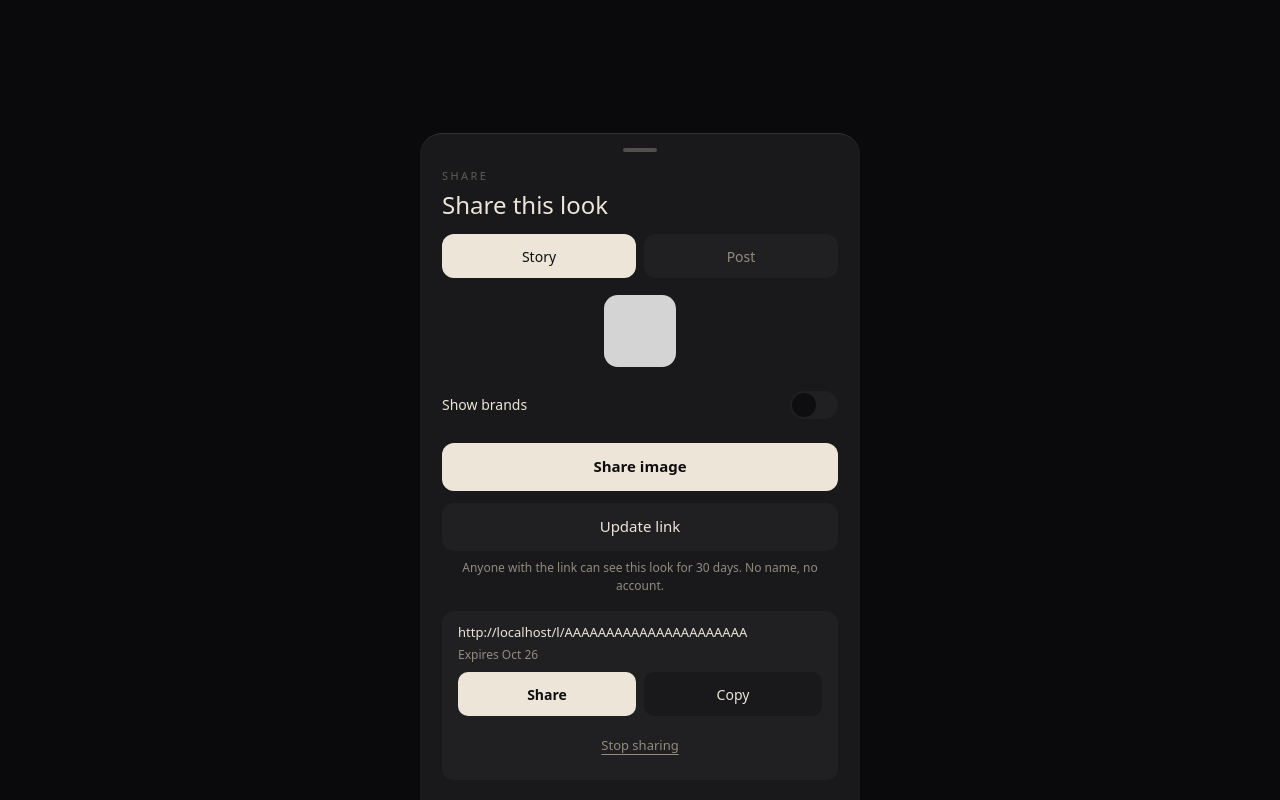
Scenario: an existing live link shows its expiry and can be stopped
The width and height of the screenshot is (1280, 800).
expect the button "Share image" is enabled: met, box [442,442,838,490]
expect the text "Expires Oct 26" is shown: met, box [458,646,538,663]
Click the button "Stop sharing" at coordinates (640, 746), box [458,724,822,768]
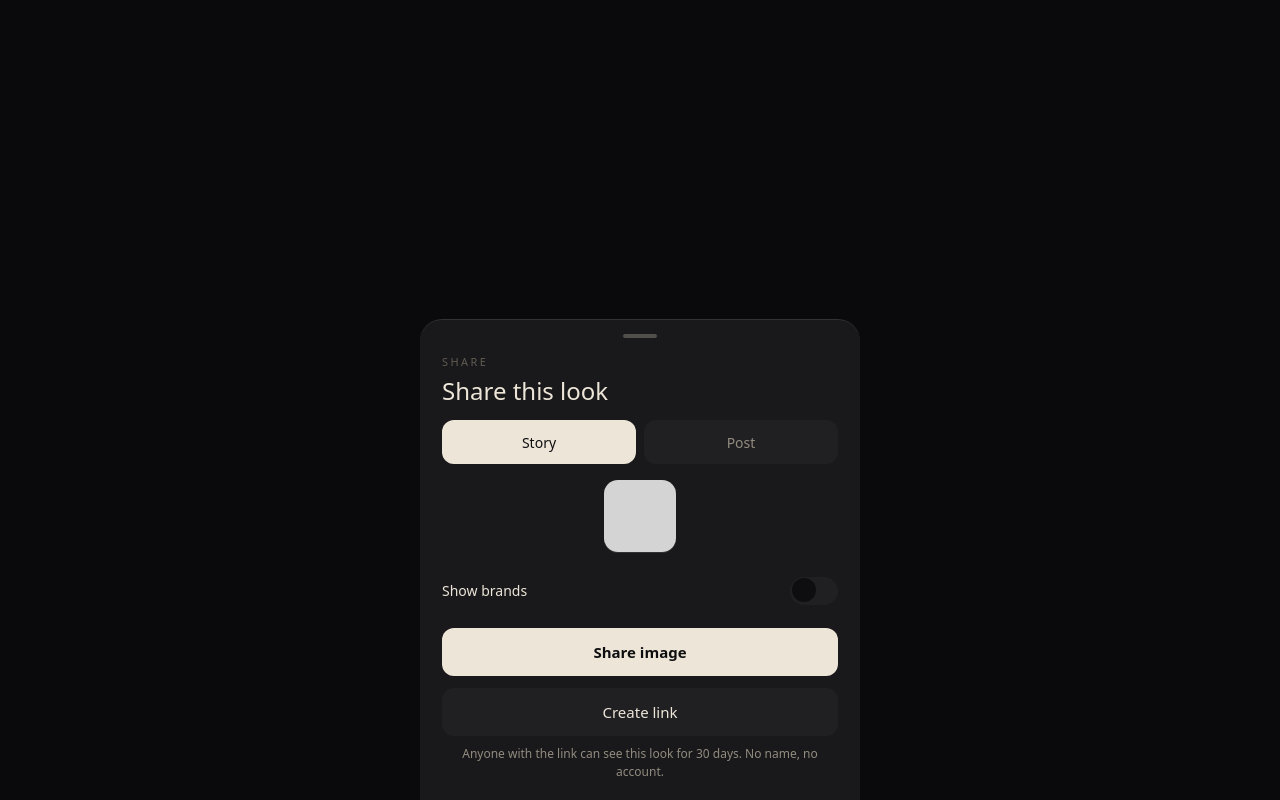
expect the text with test id "share-url" is gone: met
